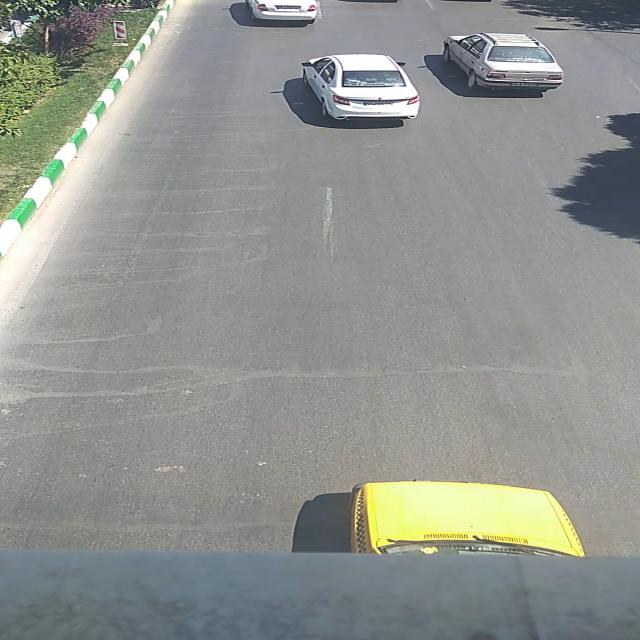car: (345, 482, 586, 557), (300, 54, 422, 122), (441, 30, 566, 92), (244, 0, 318, 23)
